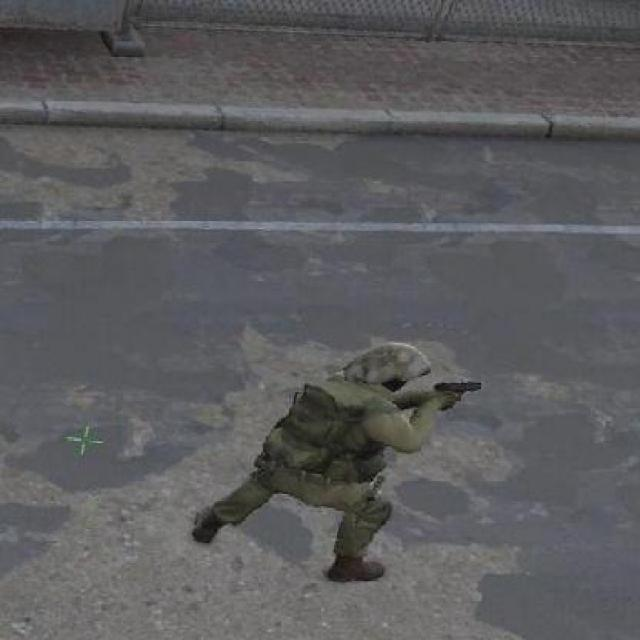CT-Body: (342, 340, 429, 396)
CT-Head: (189, 338, 482, 582)
